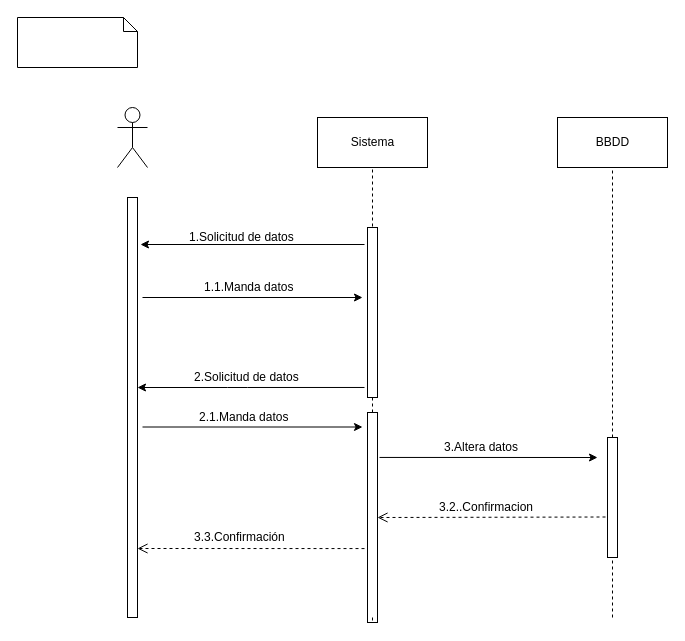
Some shapes in this 685 by 641 pixel diagram are drawn without their labels. The shapes that lost their labels are listed below. From the top down, each one's box as (x1, y1, x2, y2) in pixels, then its label:
(16, 16, 138, 68): Modificar Paciente
(116, 106, 148, 168): Secretario
